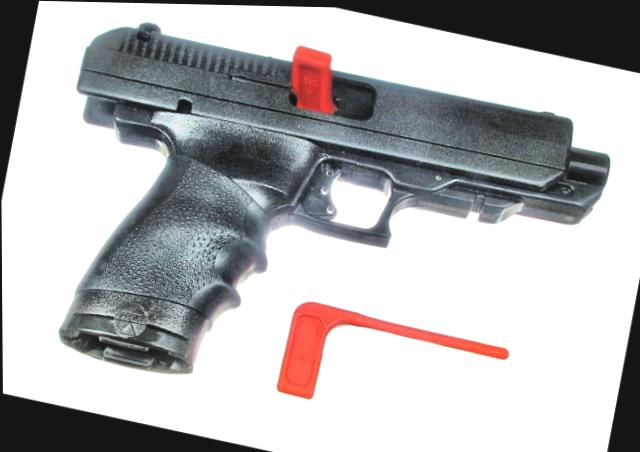pistol: (23, 9, 619, 452)
